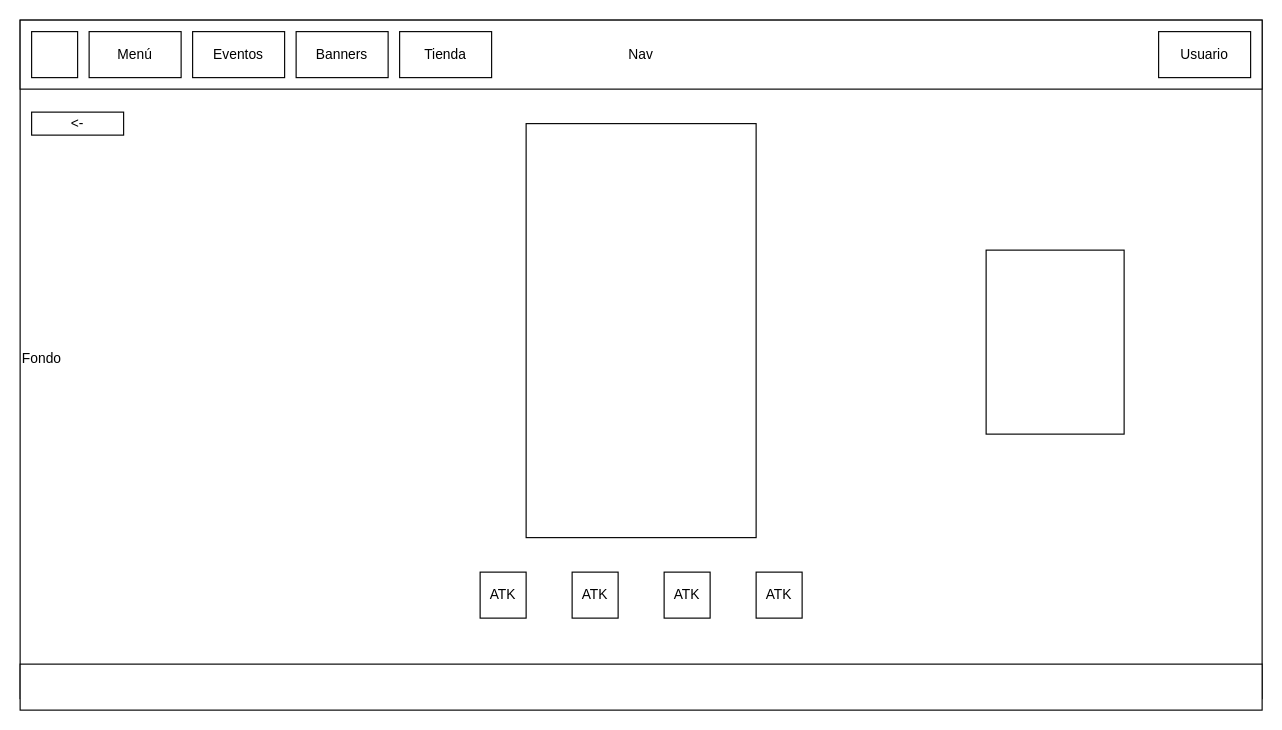
Image size: 1282x730. Some labels were removed from this diagram. The shapes that lost their labels are listed below. From the top down, each one's box as (x1, y1, x2, y2) in pixels, then its label:
(30, 30, 78, 78): Logo
(525, 122, 756, 538): Niveles
(985, 249, 1124, 434): Seleccion del Personaje
(19, 663, 1262, 710): Footer
